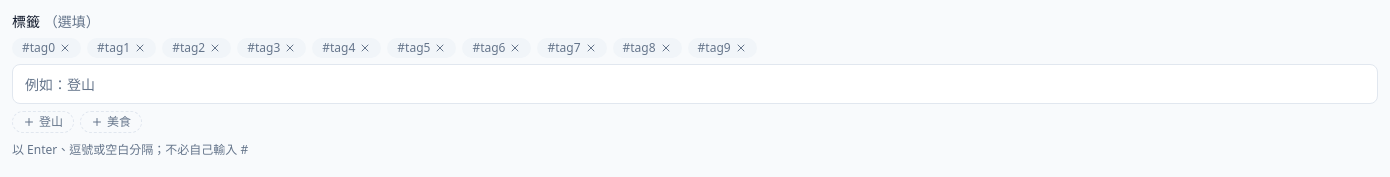
Test: TagInput › 超過數量上限時擋下並說明
Type "再一個" into the field labelled "標籤 （選填）" at (695, 84), box [12, 64, 1378, 104]
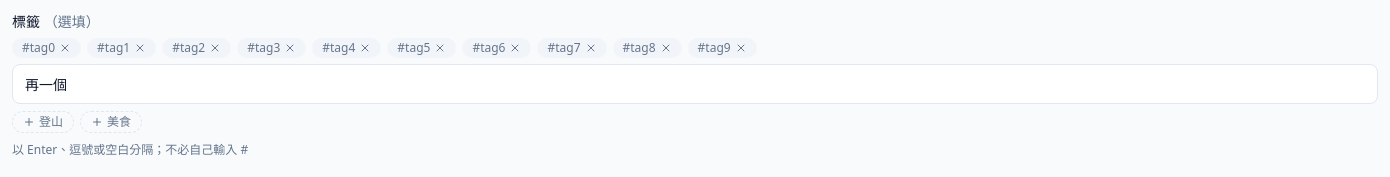
Press Enter in the field labelled "標籤 （選填）", box [12, 64, 1378, 104]
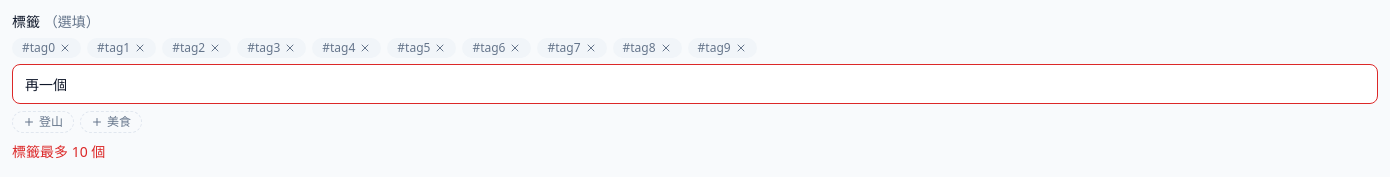
Check: the text "標籤最多 10 個" is shown, box [12, 142, 105, 161]
